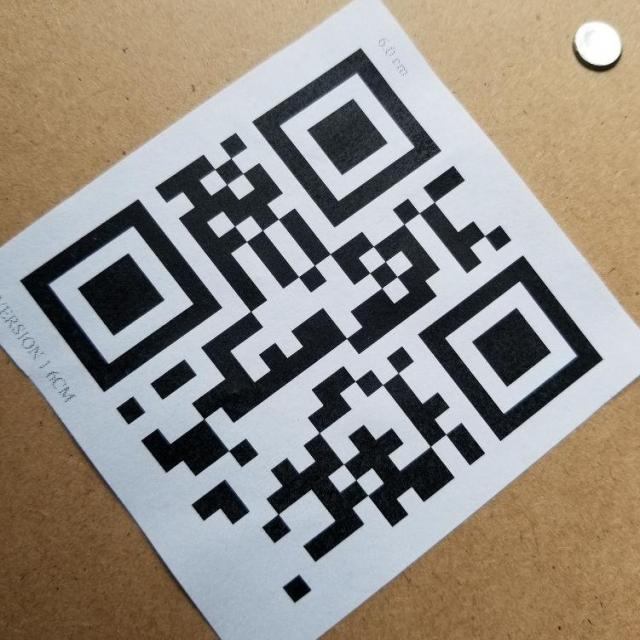QR_CODE: (21, 48, 604, 603)
